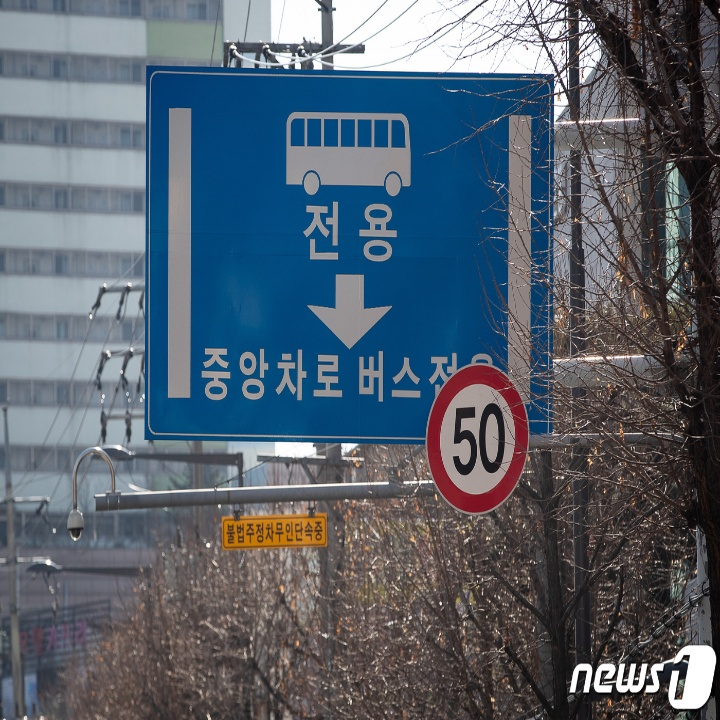bus: (272, 106, 421, 200)
